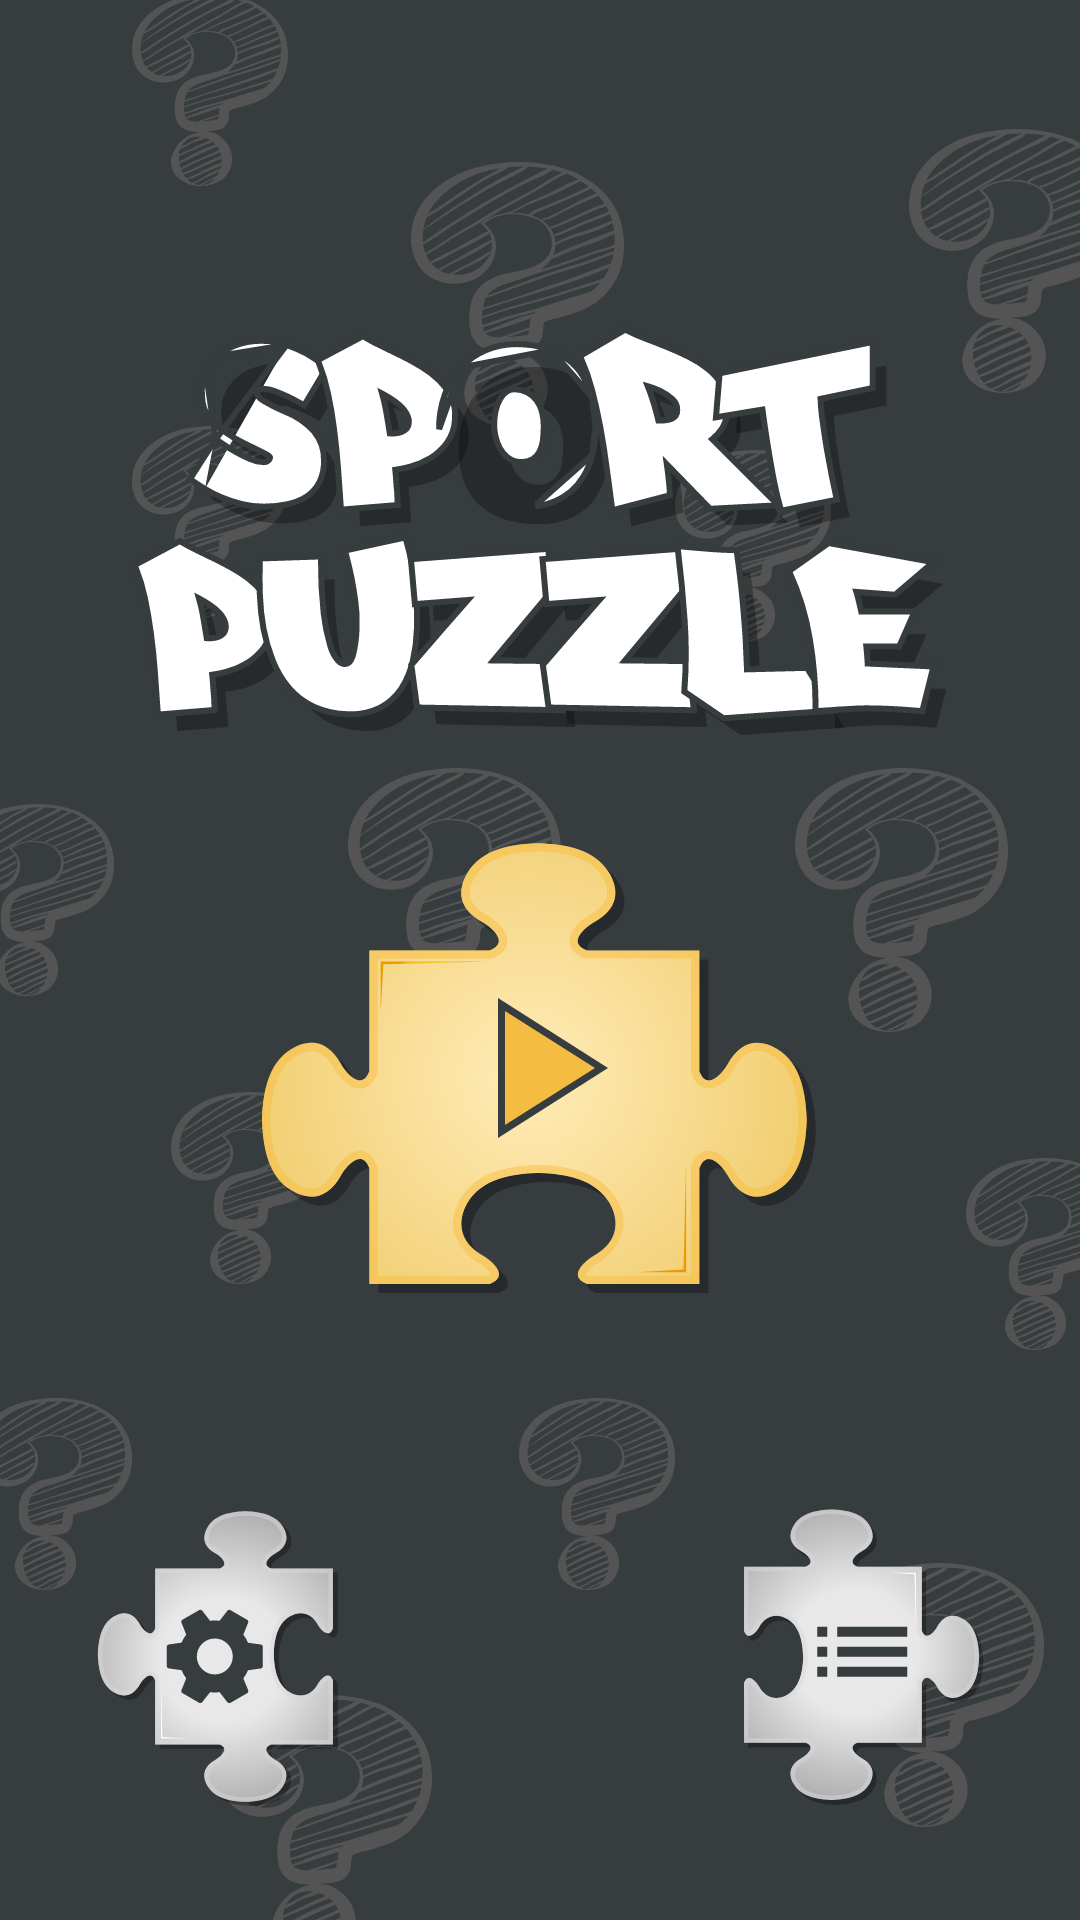

Named icons in this screenshot (1080 × 1920) and their centers, (x=x, y=y):
level list: (x=864, y=1657)
settings: (x=218, y=1658)
